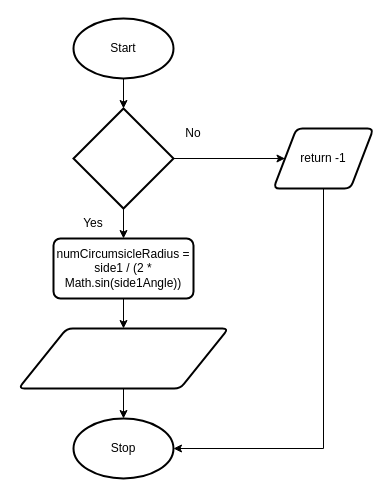
Image size: 391x496. Some labels were removed from this diagram. The centre of each missing label's shape, as x and y in pixels:
"if (isValid())" goes at (123,158).
"return numCircumsicleRadius" goes at (123,358).
